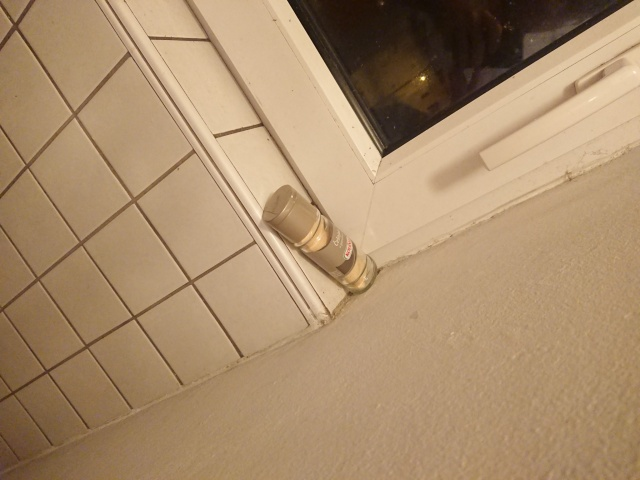Kotanyi Garlic Granules 70g: (259, 182, 380, 297)
